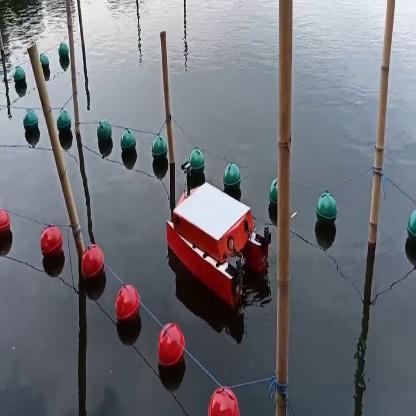green_buoy: (318, 190, 335, 236), (20, 108, 40, 135), (405, 202, 415, 254), (223, 160, 240, 188), (121, 130, 136, 158), (98, 119, 112, 146), (56, 113, 72, 134), (190, 146, 204, 168), (270, 181, 278, 218), (154, 142, 166, 166), (57, 46, 69, 62), (41, 56, 50, 76), (17, 67, 25, 88)
red_buoy: (161, 318, 182, 367), (117, 285, 142, 325), (40, 222, 63, 264), (81, 246, 103, 285), (210, 390, 238, 414), (0, 202, 11, 244)
